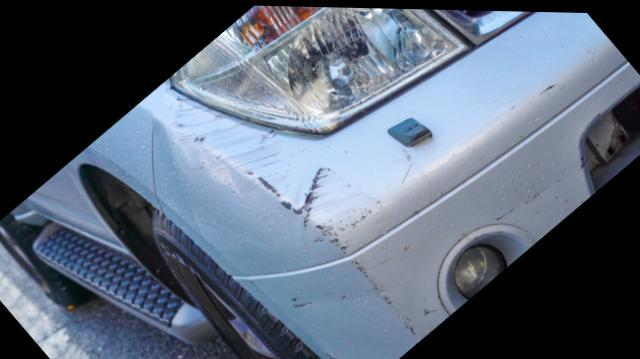scratch: (172, 94, 451, 359)
